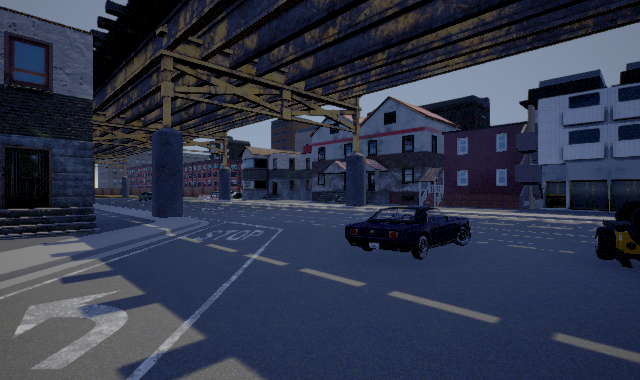vehicle: (345, 206, 471, 260), (595, 201, 640, 268)
